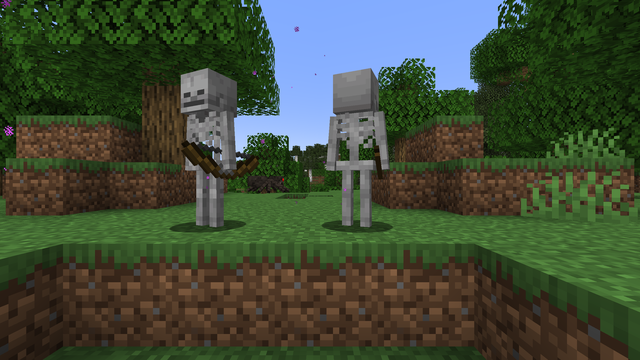araignees: (250, 173, 284, 192)
squelettes: (175, 69, 238, 228), (333, 69, 383, 228)
